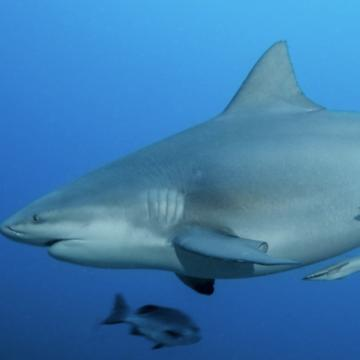Shark -Selachimorpha-: (0, 38, 360, 294)
